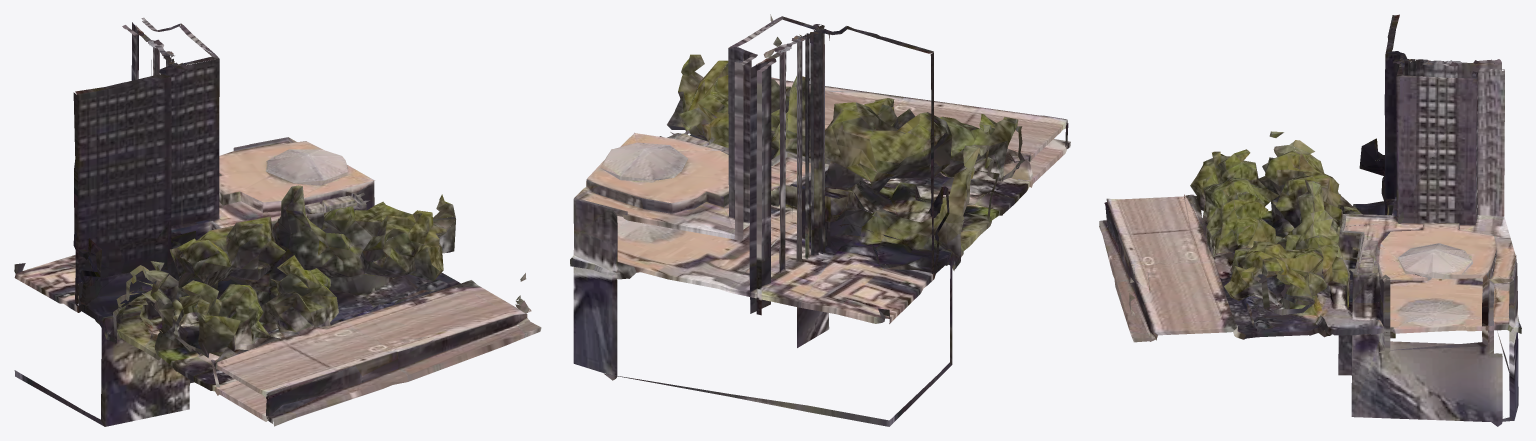
3 renders of one model, left to right at view 1: azimuth 30°, elevation 25°; view 2: azimuth 150°, elevation 25°; view 3: azimuth 270°, elevation 25°, orthographic. The views are drawn at different scales.
Visible parts, largest first — view 1: Mesh_0; view 2: Mesh_0; view 3: Mesh_0.
Boxes of the visible parts, <box> form: Mesh_0: <box>14,17,541,426</box>; Mesh_0: <box>570,14,1070,426</box>; Mesh_0: <box>1099,14,1521,426</box>.
Size of the model in its own units: 66.58 by 63.11 by 82.31.
2 materials, 2 textured.
